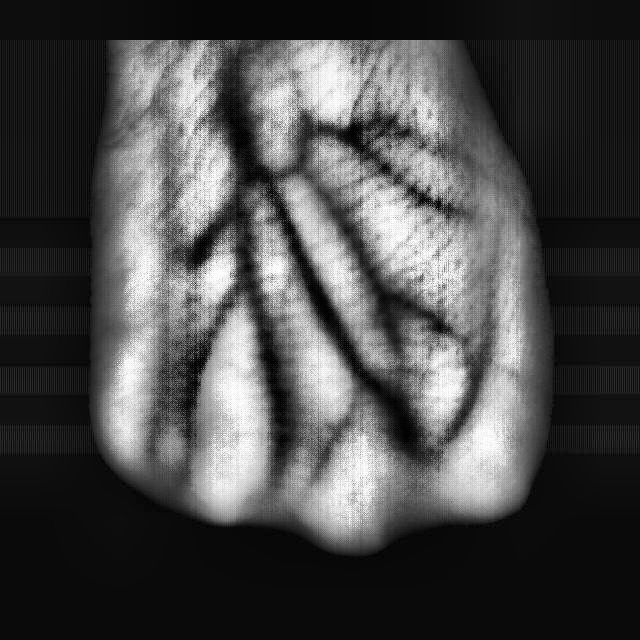Vein: (250, 183, 371, 370)
